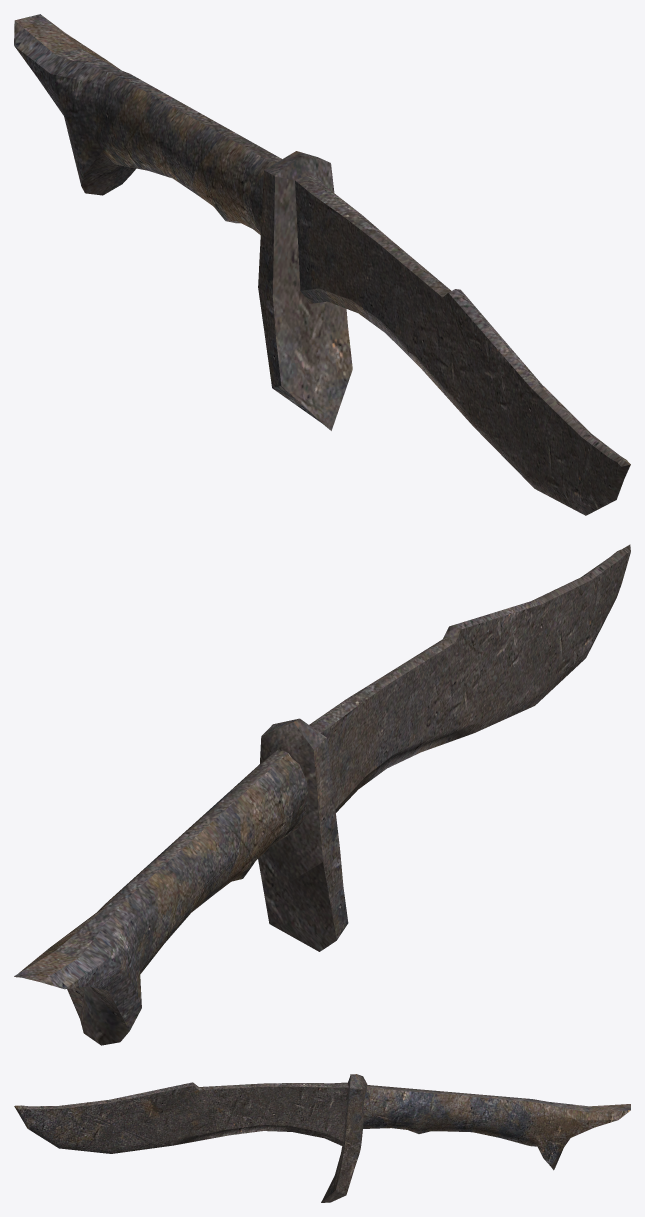
File: Knife.FBX
The picture shows the model from 3 angles, top to bottom: view 1: azimuth 30°, elevation 25°; view 2: azimuth 150°, elevation 25°; view 3: azimuth 270°, elevation 25°; orthographic projection. The views are drawn at different scales.
Parts seen in each view (by area): view 1: pCylinder2; view 2: pCylinder2; view 3: pCylinder2.
Part boxes in pixels (x1,y1,x2,y2): pCylinder2: (14, 14, 630, 515); pCylinder2: (14, 544, 630, 1045); pCylinder2: (14, 1074, 630, 1202).
Bounding box in the file's own units: 0.1915 × 0.6552 × 2.84.
Materials: 1 (1 with a texture image).
